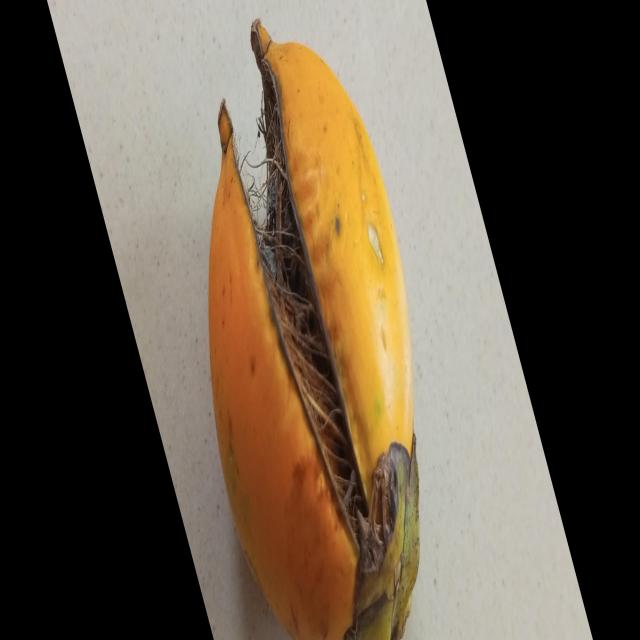damaged: (207, 22, 420, 640)
